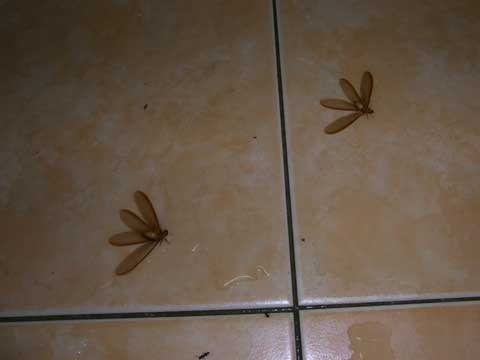flying termite: (103, 192, 177, 274), (313, 64, 382, 142)
